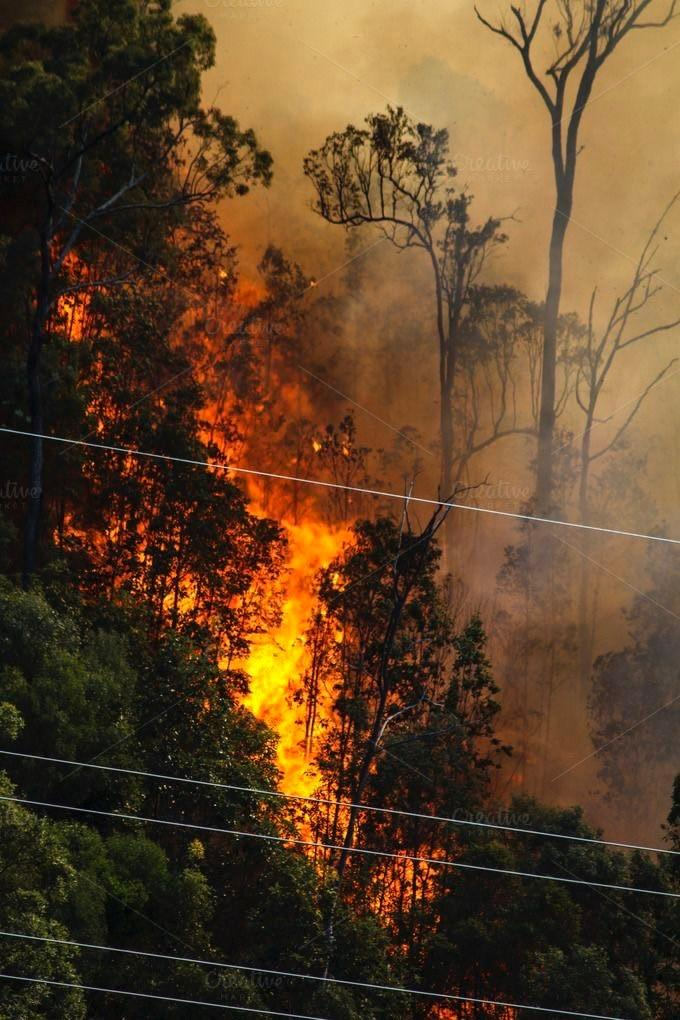fire: (1, 46, 446, 963), (419, 976, 524, 1020)
smoke: (410, 0, 667, 889)
